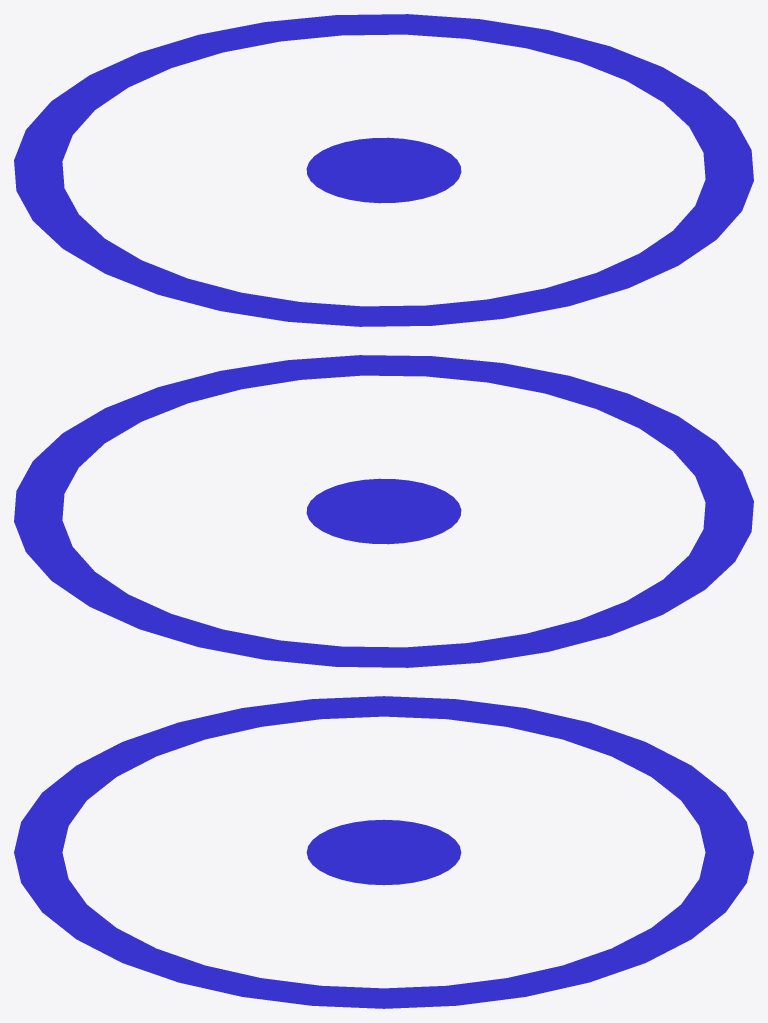
File: marker.gltf
3 views of the same model, one above another, from view 1: azimuth 30°, elevation 25°; view 2: azimuth 150°, elevation 25°; view 3: azimuth 270°, elevation 25° (orthographic).
Parts seen in each view (by area): view 1: Circle.001; view 2: Circle.001; view 3: Circle.001.
Boxes of the visible parts, x1,y1,x2,y2 form: Circle.001: (14, 14, 753, 326); Circle.001: (14, 355, 753, 667); Circle.001: (14, 696, 753, 1008).
Size of the model in its own units: 2 by 3.66e-08 by 2.
